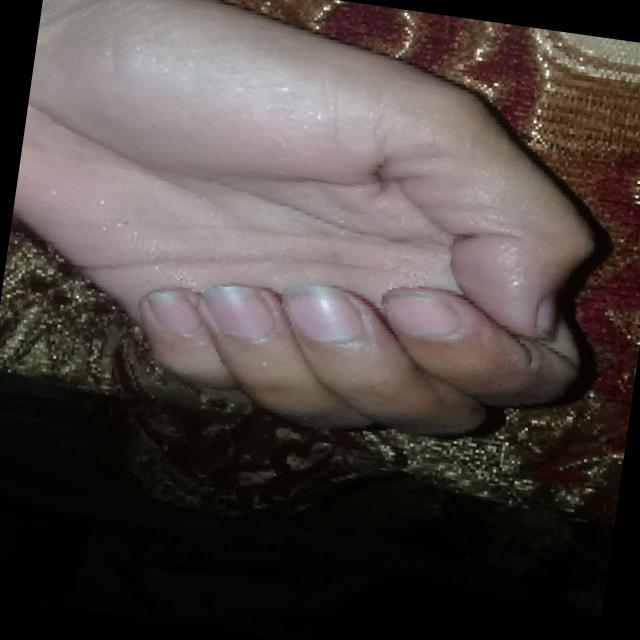Nail: (284, 284, 362, 342), (202, 285, 273, 339), (383, 290, 458, 337), (148, 291, 199, 333), (533, 293, 556, 338)
